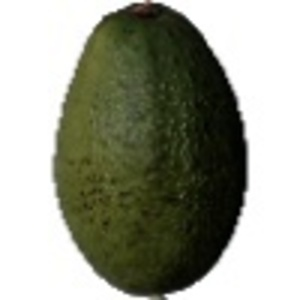abacate: (50, 2, 249, 295)
